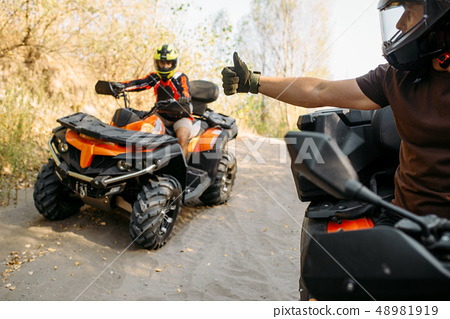helmet: (151, 41, 183, 78)
